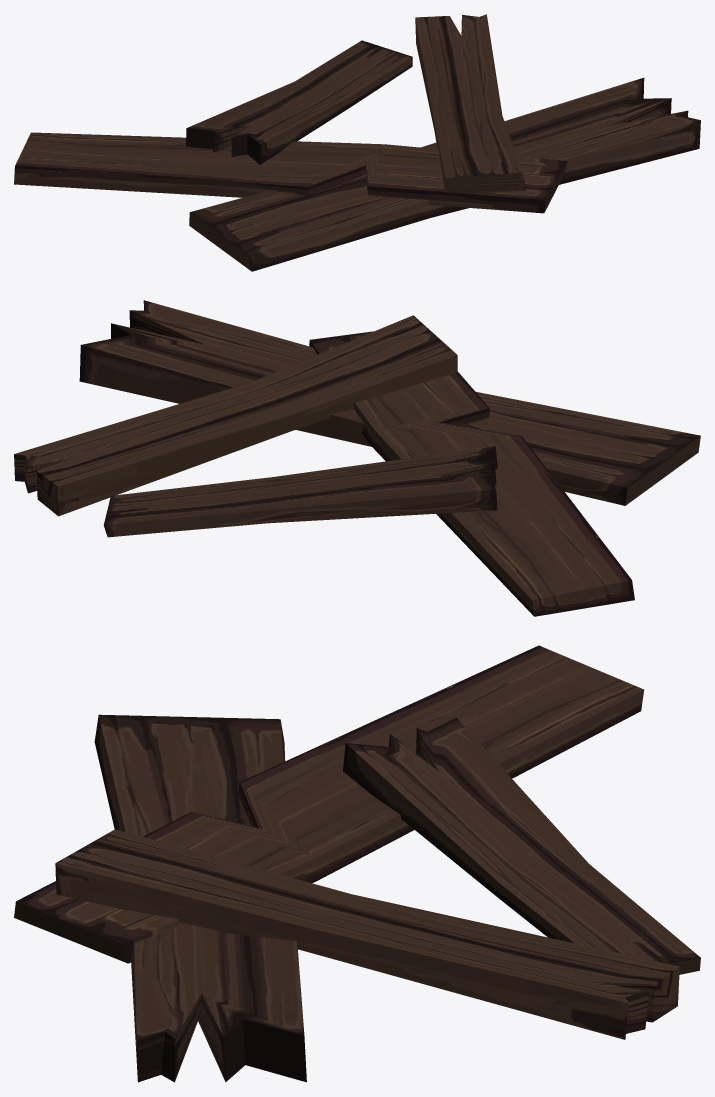
The model's file is SM_PROP_debris_battle_02.fbx.
3 views of the same model, one above another, from view 1: azimuth 30°, elevation 25°; view 2: azimuth 150°, elevation 25°; view 3: azimuth 270°, elevation 25° (orthographic). The views are drawn at different scales.
Visible parts, largest first — view 1: SM_PROP_debris_battle_02; view 2: SM_PROP_debris_battle_02; view 3: SM_PROP_debris_battle_02.
Part boxes in pixels (box(x1,y1,x2,y2)): SM_PROP_debris_battle_02: box(14, 14, 700, 271); SM_PROP_debris_battle_02: box(14, 300, 700, 616); SM_PROP_debris_battle_02: box(14, 645, 700, 1082).
Bounding box in the file's own units: 215 × 17.41 × 153.
